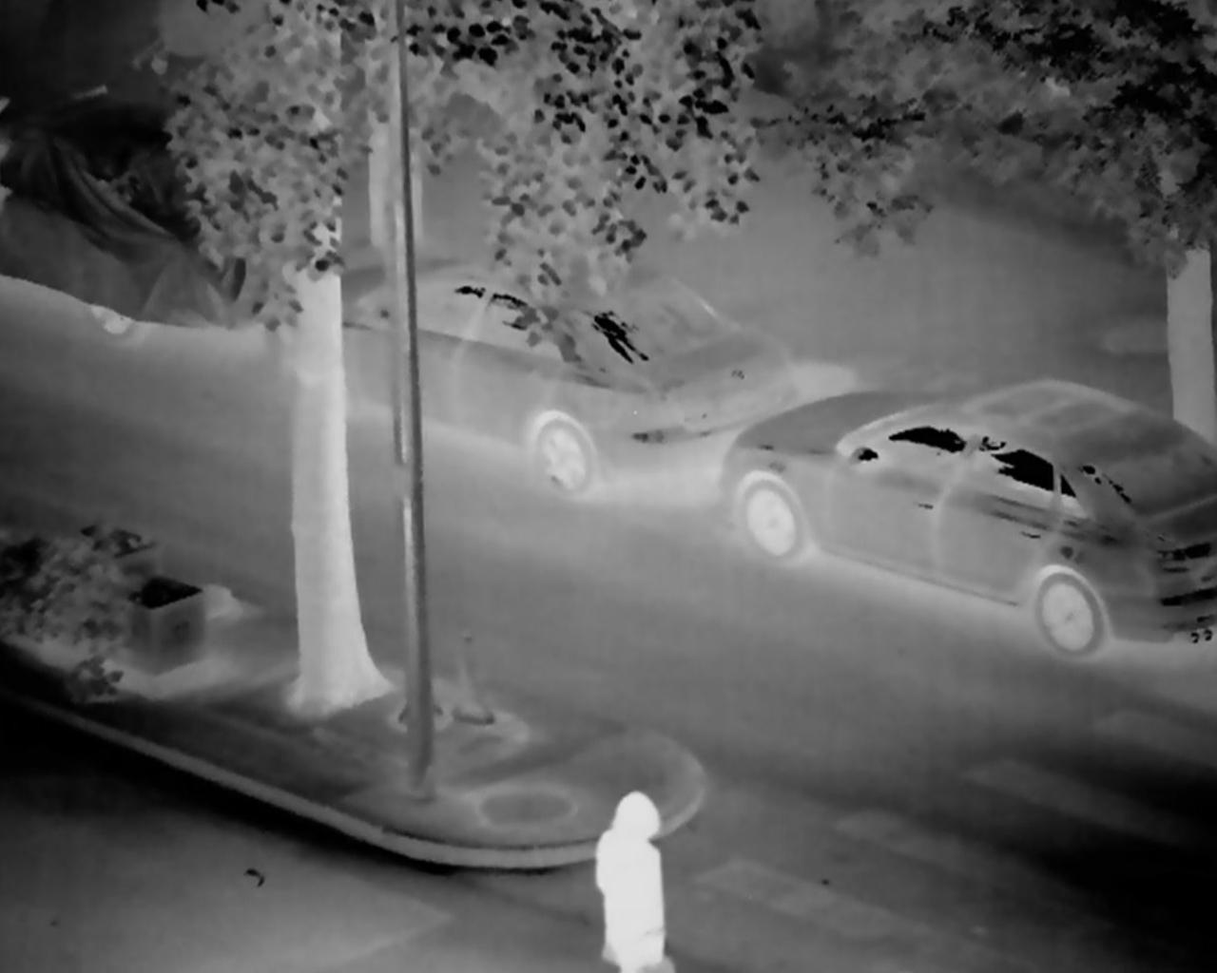person: (581, 791, 684, 973)
